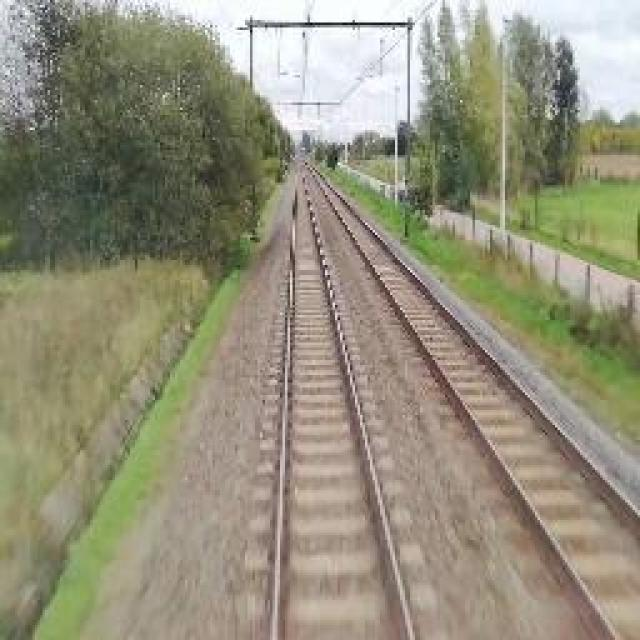rail: (238, 155, 453, 640)
